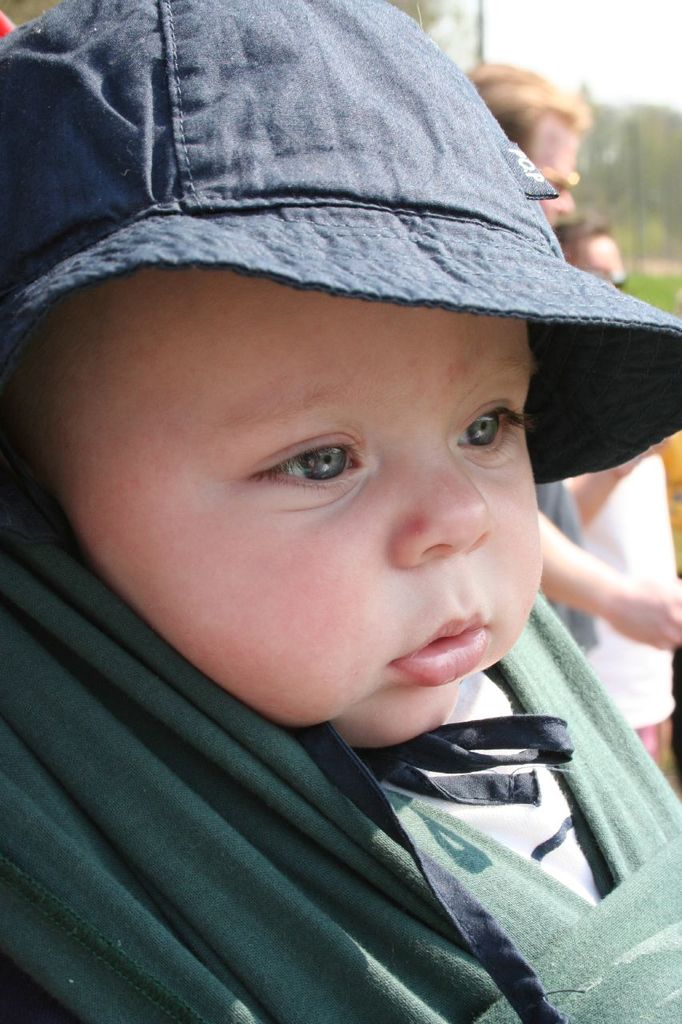Human_hand: (612, 579, 681, 654)
